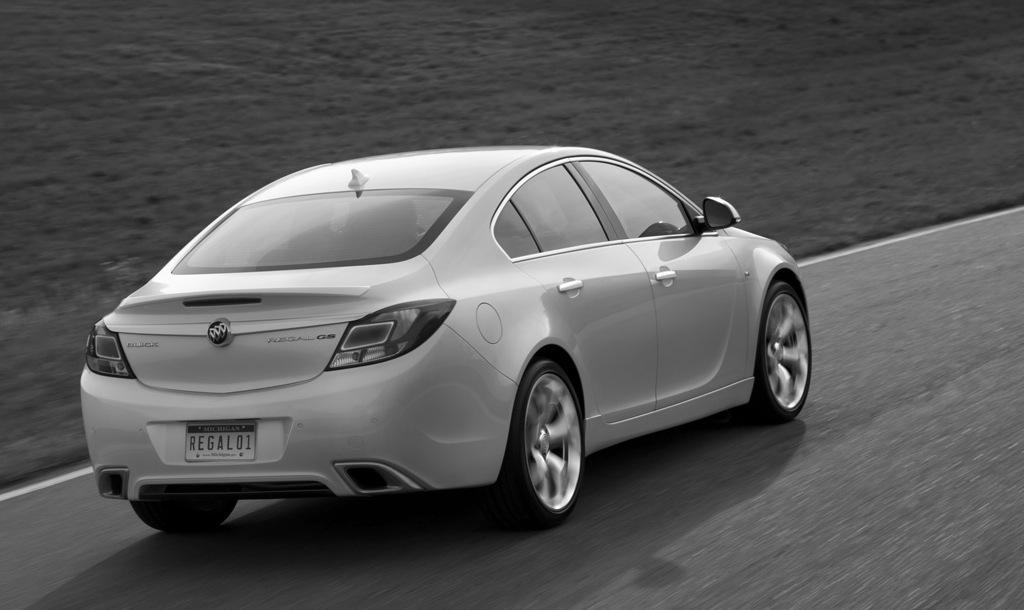car: (80, 149, 810, 542)
